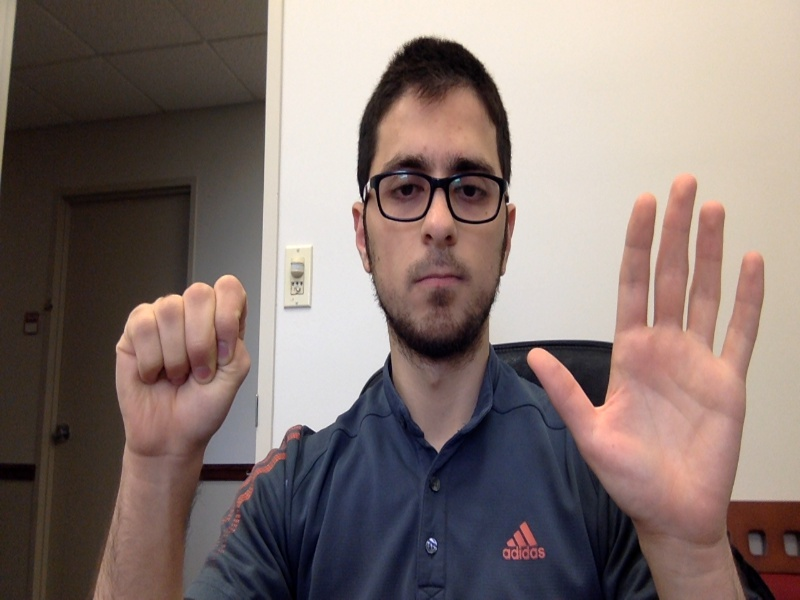0-hand: (114, 275, 250, 462)
5-hand: (527, 176, 763, 518)
